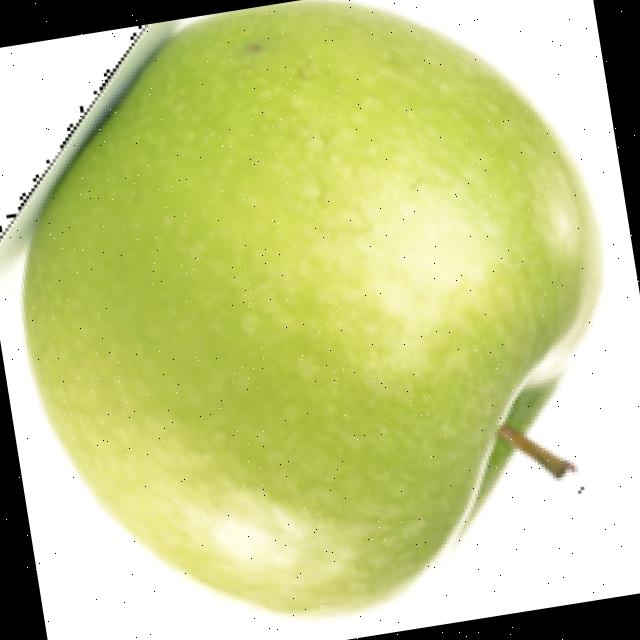apple: (0, 0, 608, 623)
